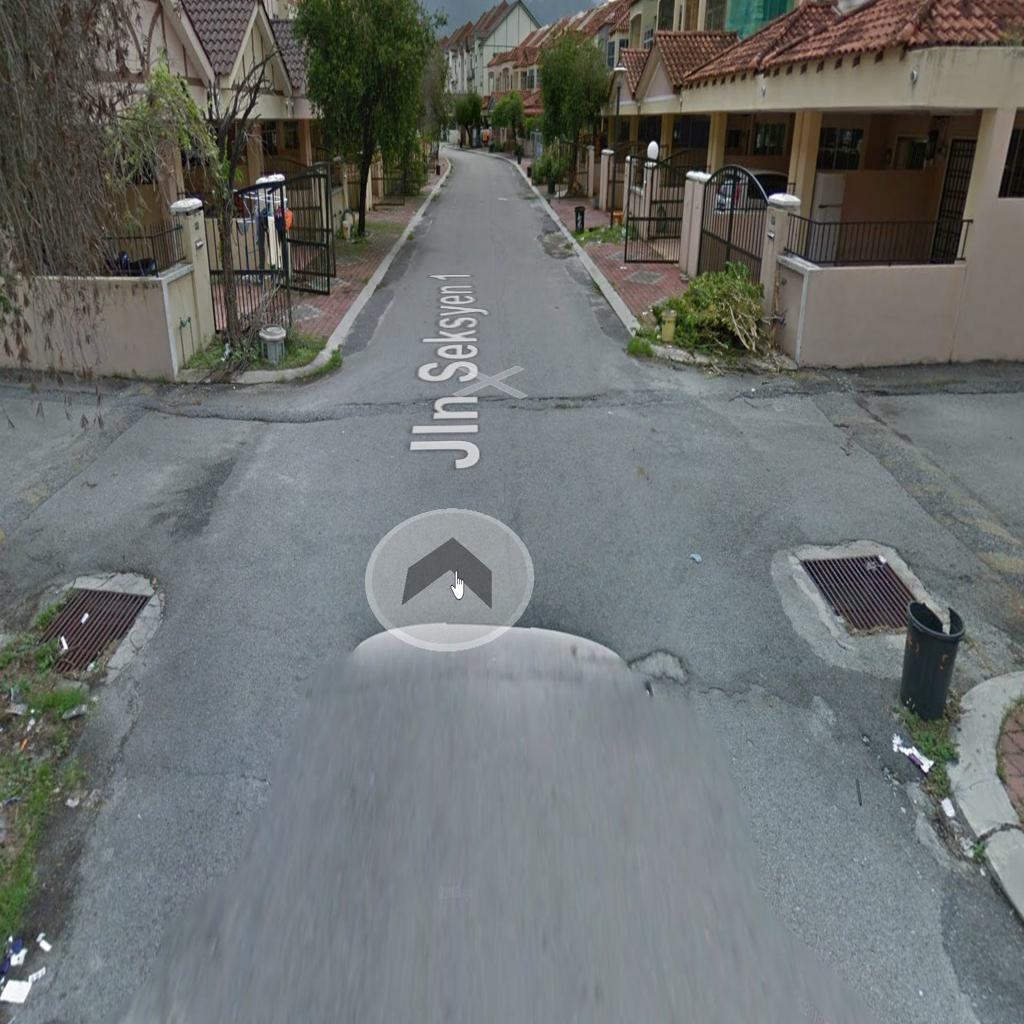Junction: (673, 330, 1016, 757), (7, 343, 323, 742)
